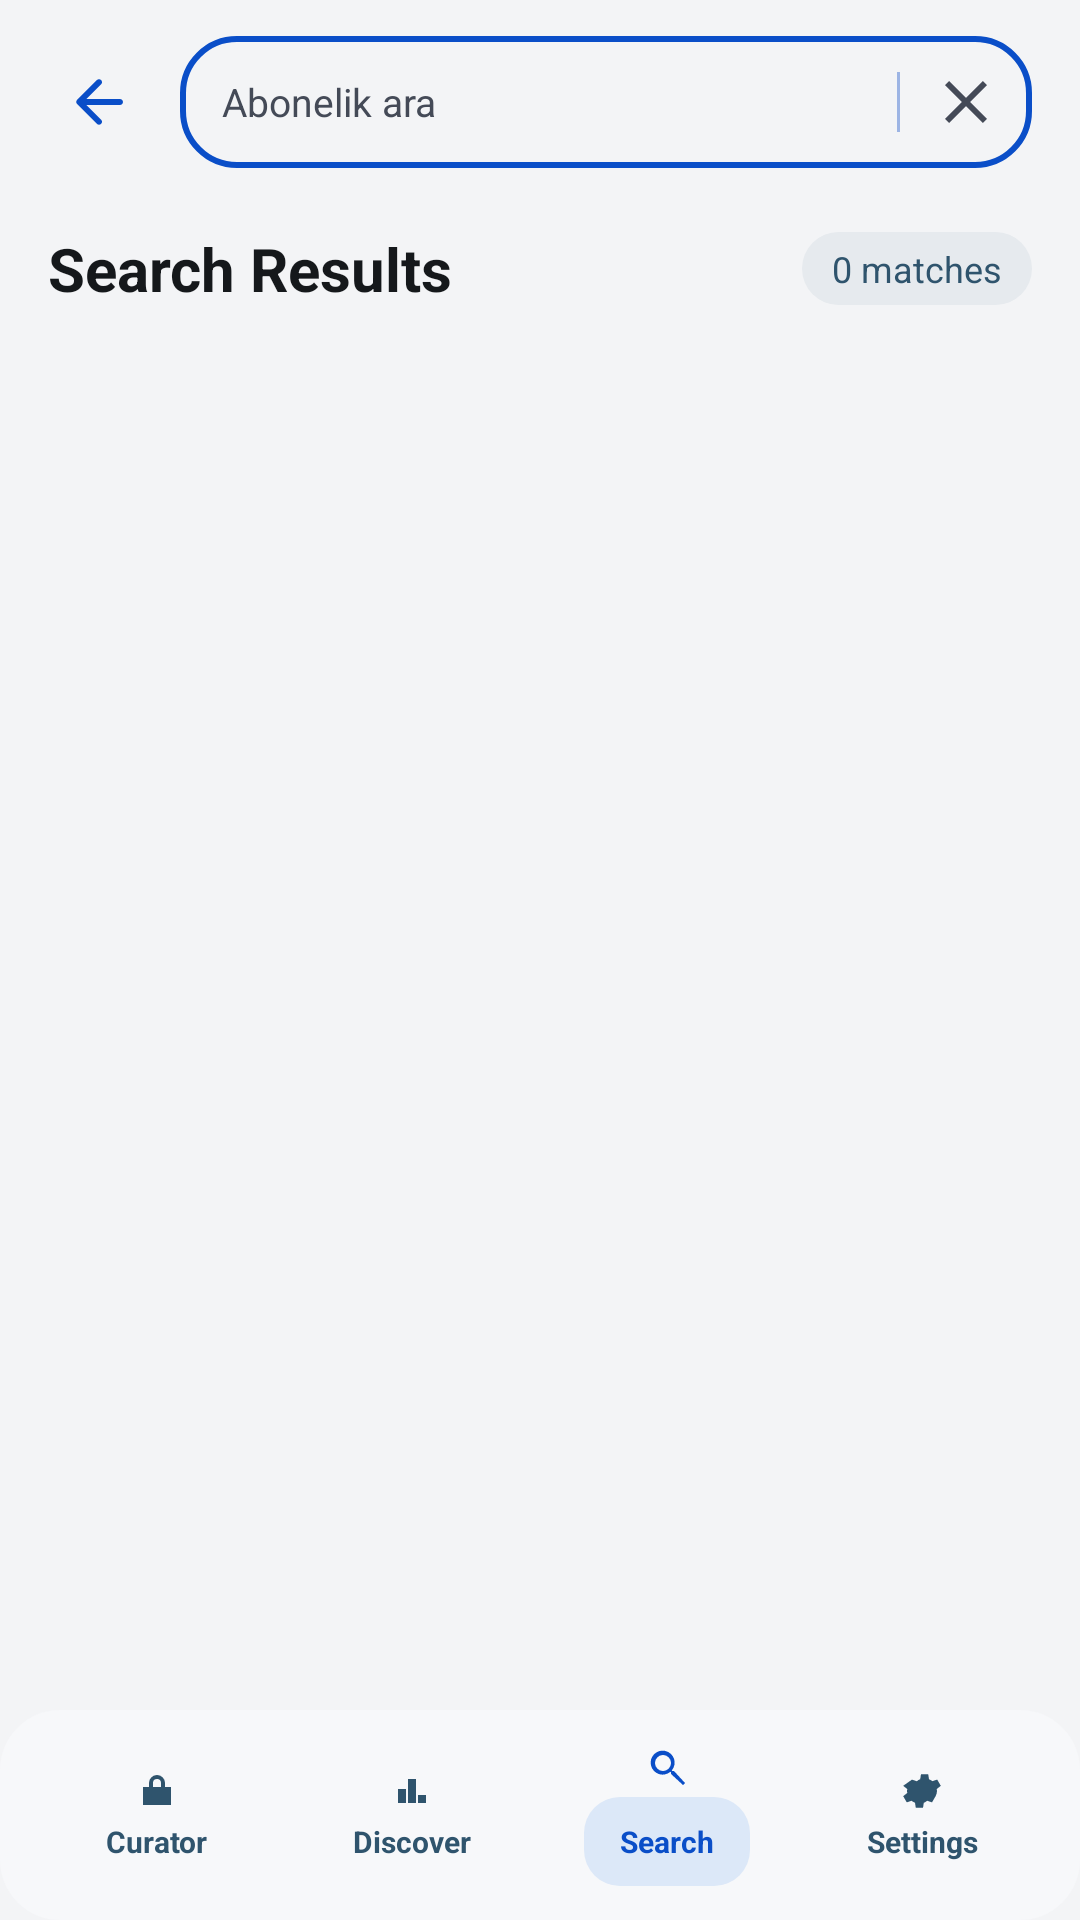

Point at icon controls on the screen. Image size 1080*1920, points as [x,y].
activity: [412,1791]
Geri: [99,102]
Temizle: [966,102]
